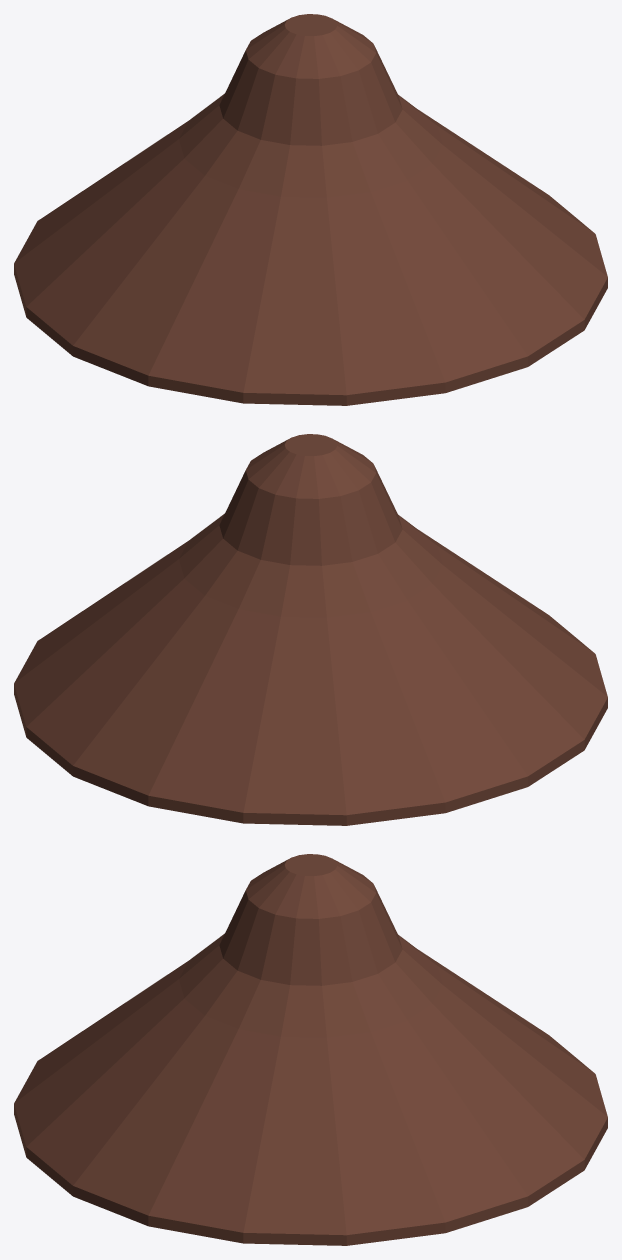
The model's file is cylinder.006_lev2.glb.
The picture shows the model from 3 angles, top to bottom: view 1: azimuth 30°, elevation 25°; view 2: azimuth 150°, elevation 25°; view 3: azimuth 270°, elevation 25°; orthographic projection.
Visible parts, largest first — view 1: cylinder.006_lev2; view 2: cylinder.006_lev2; view 3: cylinder.006_lev2.
Boxes of the visible parts, bbox=[...] form: cylinder.006_lev2: bbox=[14, 14, 607, 405]; cylinder.006_lev2: bbox=[14, 434, 607, 825]; cylinder.006_lev2: bbox=[14, 854, 607, 1245].
Bounding box in the file's own units: 1.72 × 0.8501 × 1.73.
